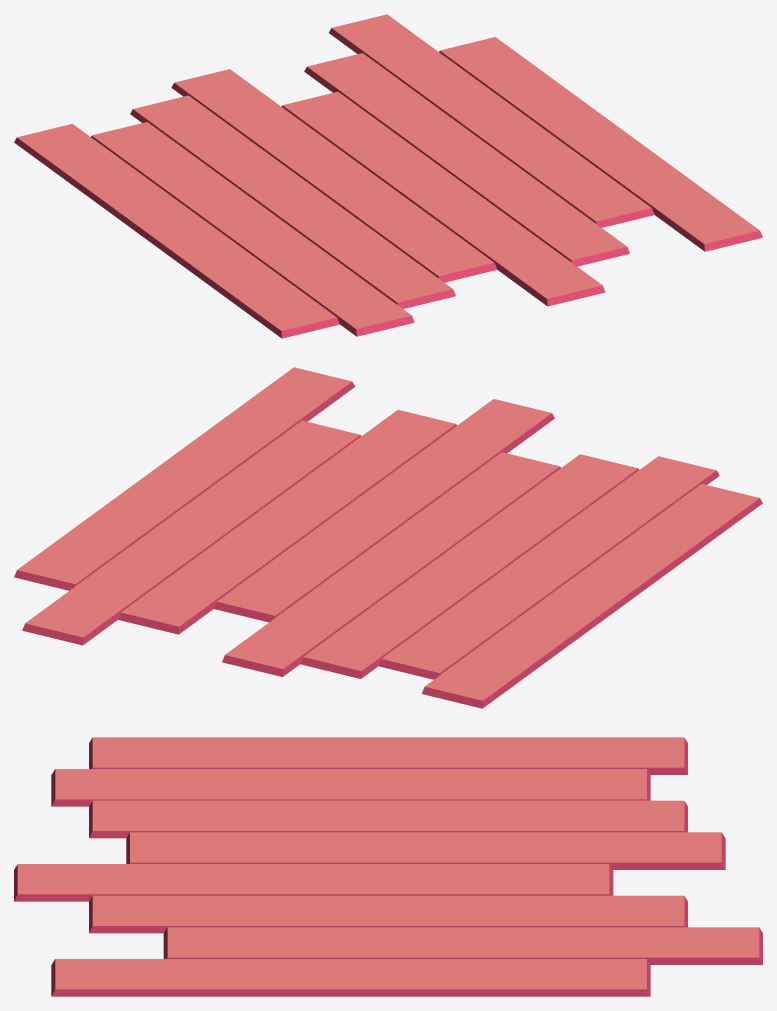
Rendered from M_Classroom_Floor.fbx.
3 renders of one model, top to bottom at view 1: azimuth 30°, elevation 25°; view 2: azimuth 150°, elevation 25°; view 3: azimuth 270°, elevation 25°, orthographic. The views are drawn at different scales.
Parts seen in each view (by area): view 1: M_ClassRoom_Floor; view 2: M_ClassRoom_Floor; view 3: M_ClassRoom_Floor.
Part boxes in pixels (left/top/right/bottom): M_ClassRoom_Floor: left=14, top=14, right=762, bottom=338; M_ClassRoom_Floor: left=14, top=367, right=762, bottom=708; M_ClassRoom_Floor: left=14, top=737, right=762, bottom=996.
Size of the model in its own units: 4 by 0.05 by 5.
